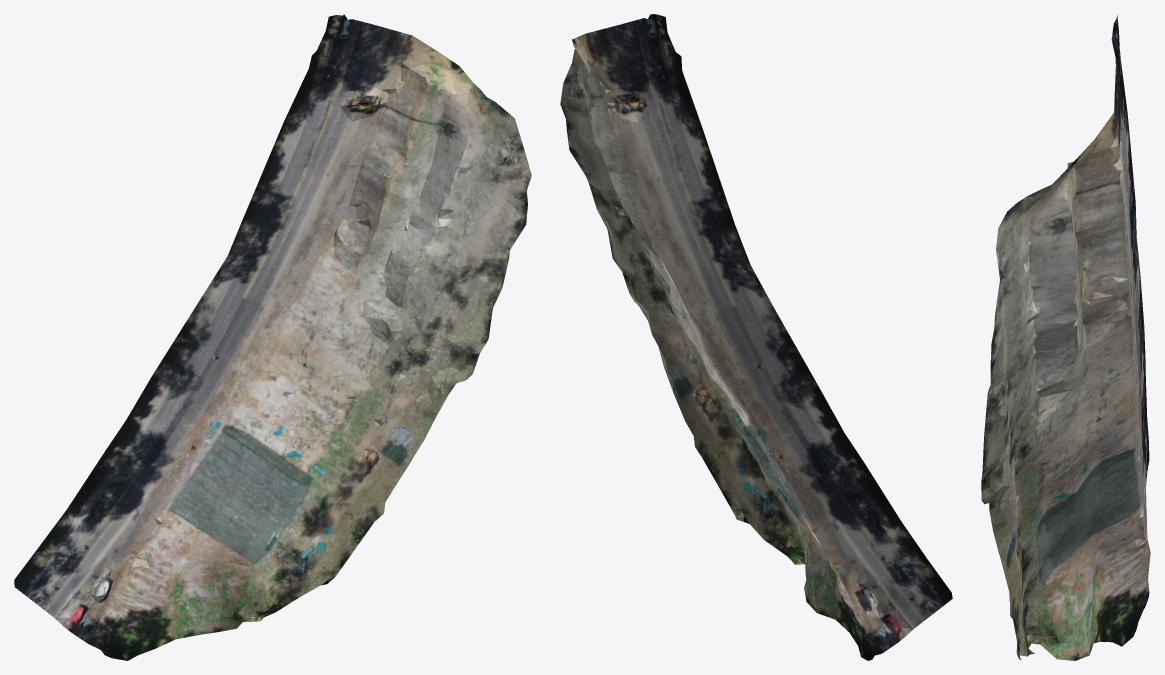
The model's file is Superficie_t10.glb.
3 views of the same model, side by side, from view 1: azimuth 30°, elevation 25°; view 2: azimuth 150°, elevation 25°; view 3: azimuth 270°, elevation 25° (orthographic). The views are drawn at different scales.
Parts seen in each view (by area): view 1: Bloco t_0_0_0; view 2: Bloco t_0_0_0; view 3: Bloco t_0_0_0.
Part boxes in pixels (left/top/right/bottom): Bloco t_0_0_0: left=14, top=14, right=531, bottom=660; Bloco t_0_0_0: left=560, top=14, right=952, bottom=660; Bloco t_0_0_0: left=981, top=15, right=1150, bottom=660.
Bounding box in the file's own units: 77.68 × 97.03 × 19.69.
1 material, 1 textured.
